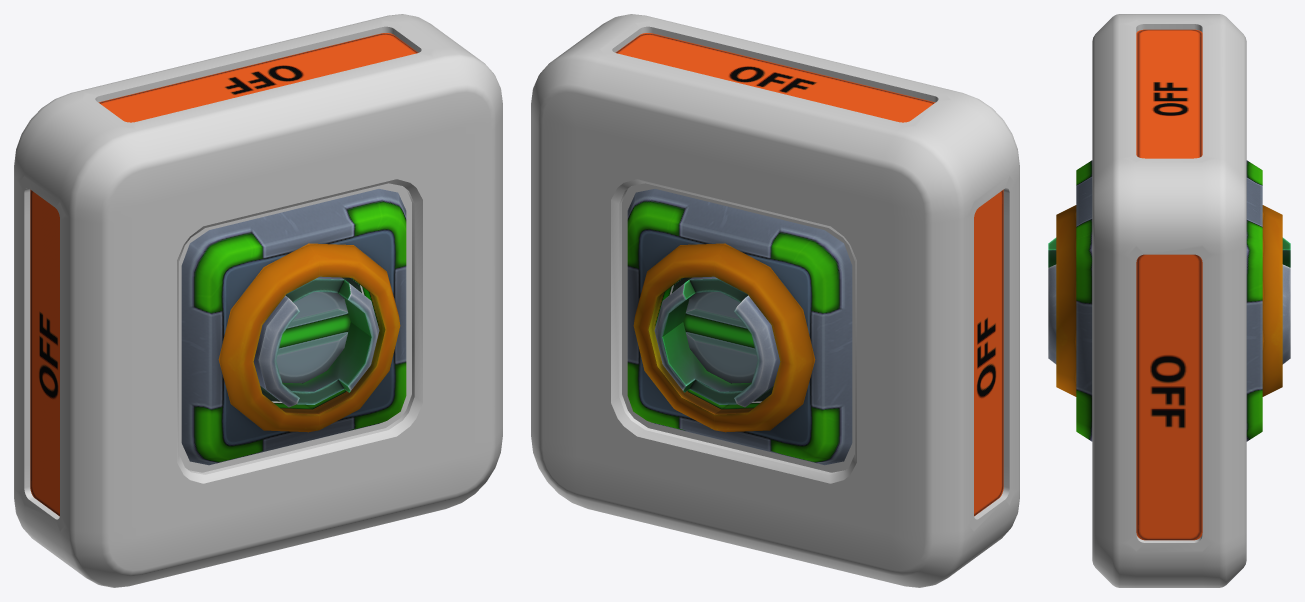
The model's file is fant_thin_chest.fbx.
3 renders of one model, left to right at view 1: azimuth 30°, elevation 25°; view 2: azimuth 150°, elevation 25°; view 3: azimuth 270°, elevation 25°, orthographic. The views are drawn at different scales.
Visible parts, largest first — view 1: fant_thin_chest; view 2: fant_thin_chest; view 3: fant_thin_chest.
Boxes of the visible parts, x1,y1,x2,y2 form: fant_thin_chest: [14, 14, 502, 587]; fant_thin_chest: [531, 14, 1019, 587]; fant_thin_chest: [1048, 14, 1290, 587].
Bounding box in the file's own units: 300 × 300 × 157.
